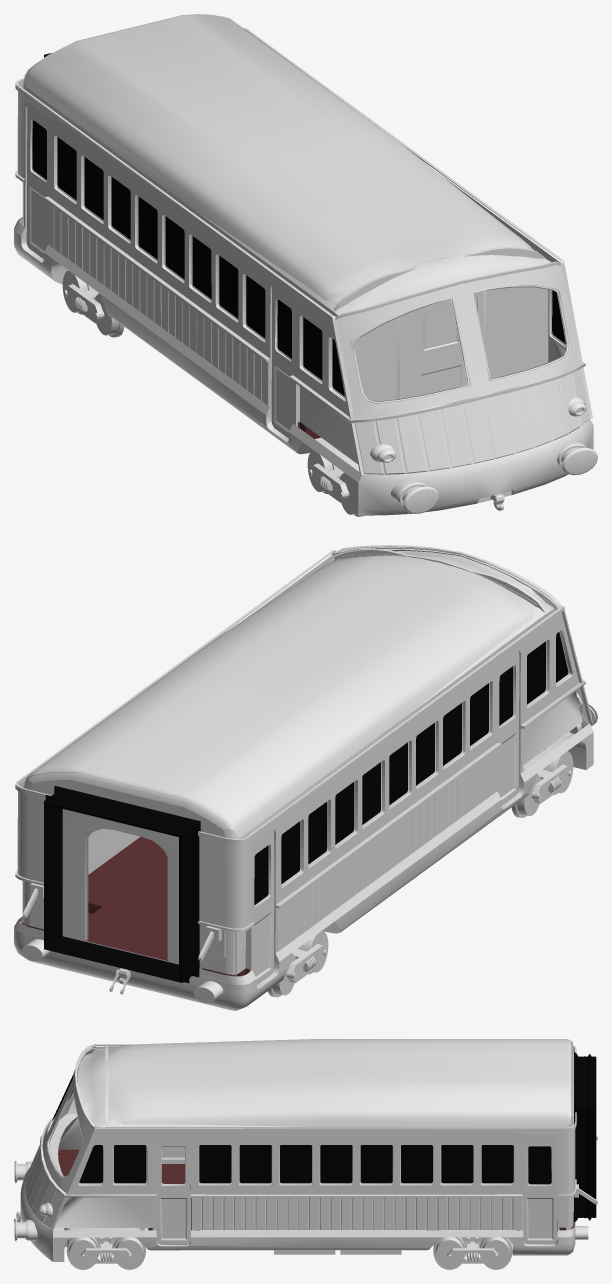
The model's file is vagone.fbx.
3 views of the same model, one above another, from view 1: azimuth 30°, elevation 25°; view 2: azimuth 150°, elevation 25°; view 3: azimuth 270°, elevation 25° (orthographic). The views are drawn at different scales.
Visible parts, largest first — view 1: Aggangio.001; view 2: Aggangio.001; view 3: Aggangio.001.
Boxes of the visible parts, <box> form: Aggangio.001: <box>14,14,597,516</box>; Aggangio.001: <box>14,545,597,1010</box>; Aggangio.001: <box>14,1039,597,1269</box>.
Size of the model in its own units: 448 by 412 by 1287.
